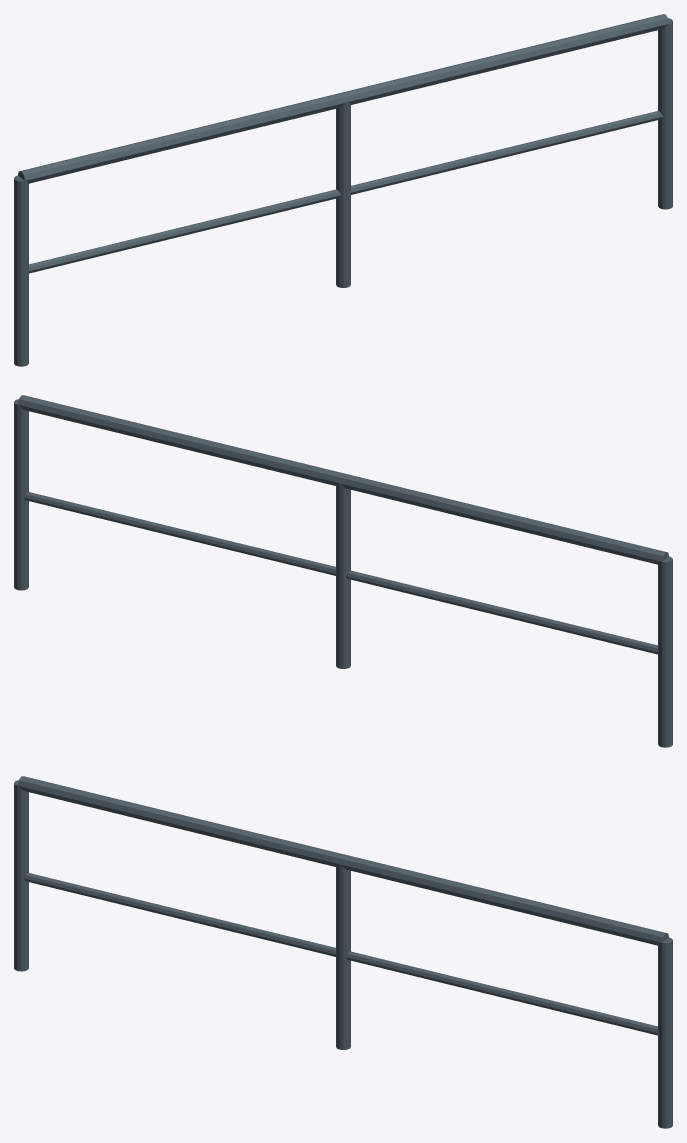
The model's file is football-soccer-club-grounds-perimeter-rail-8d914e58.glb.
3 renders of one model, top to bottom at view 1: azimuth 30°, elevation 25°; view 2: azimuth 150°, elevation 25°; view 3: azimuth 330°, elevation 25°, orthographic.
Parts seen in each view (by area): view 1: perimeter-rail; view 2: perimeter-rail; view 3: perimeter-rail.
Boxes of the visible parts, left/top/right/bottom form: perimeter-rail: left=14, top=14, right=672, bottom=366; perimeter-rail: left=14, top=395, right=672, bottom=747; perimeter-rail: left=14, top=776, right=672, bottom=1128.
Bounding box in the file's own units: 4.08 × 1.14 × 0.0802.
